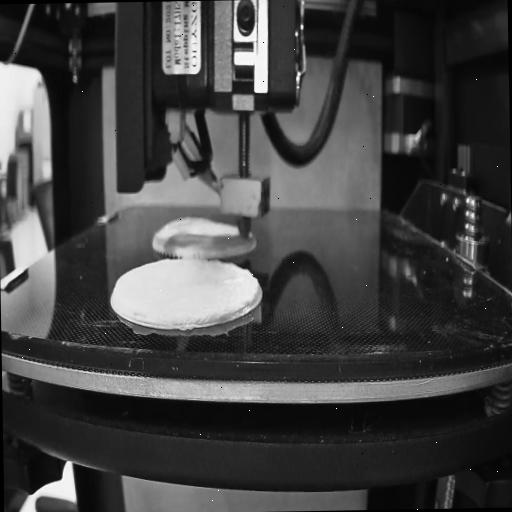over_extrusion: (244, 278, 262, 313)
